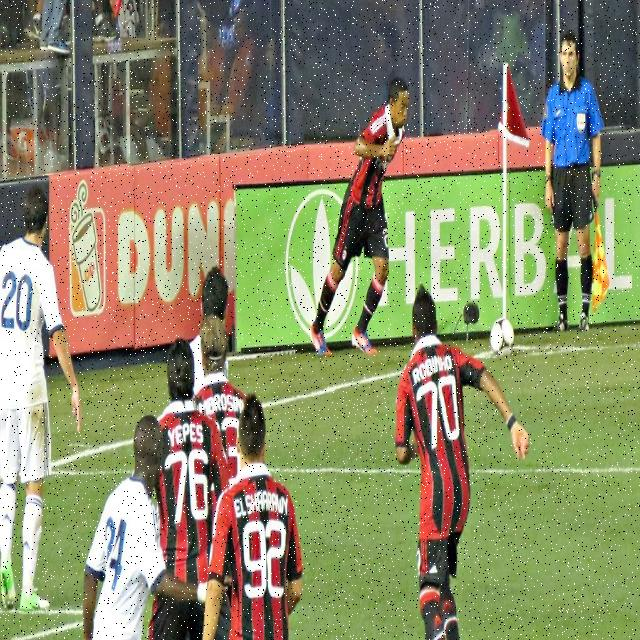corner-kick: (478, 54, 536, 366)
